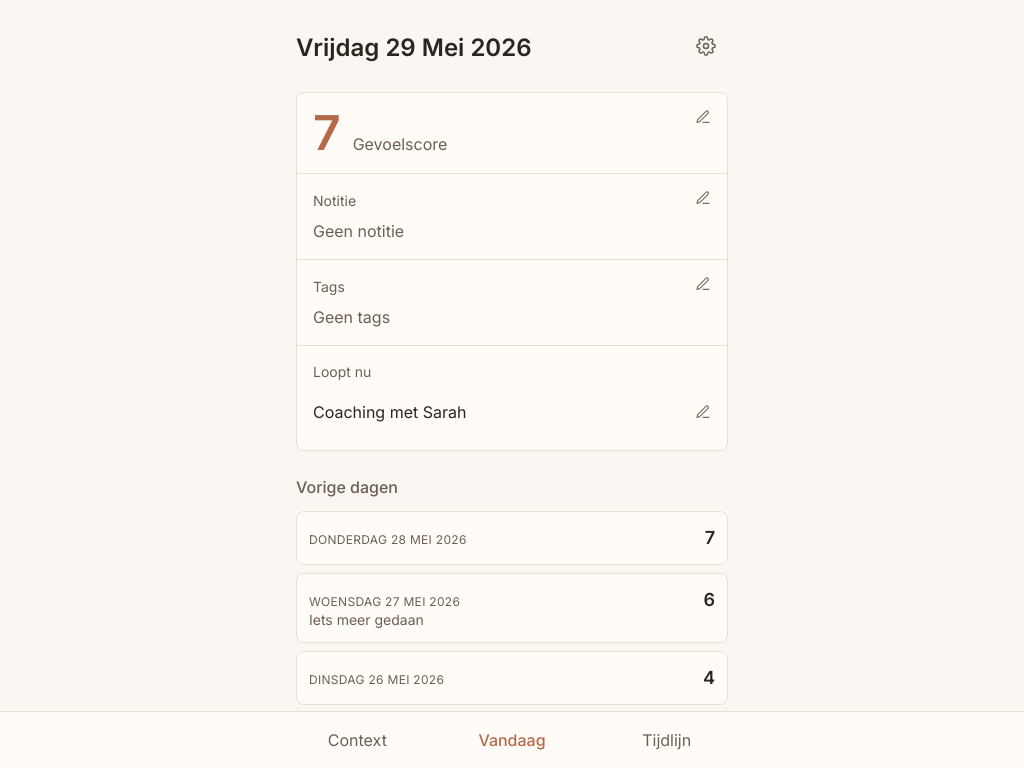
Scenario: <TodayShell /> › ongoing-episodes region › tapping a row opens the EpisodeFormSheet for that episode
Expected: the heading "bewerk interventie" is not shown
Click the button "Coaching met Sarah": [390, 412] box [313,390,711,434]
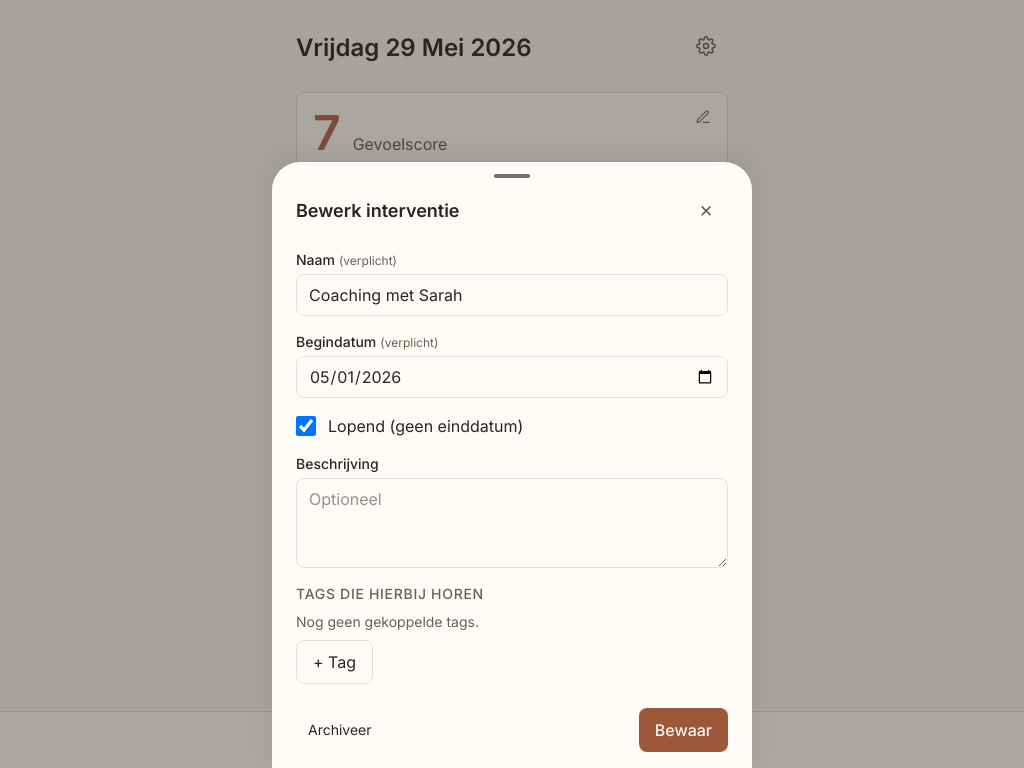
Result: the heading "Bewerk interventie" is shown at [296,197,460,225]
